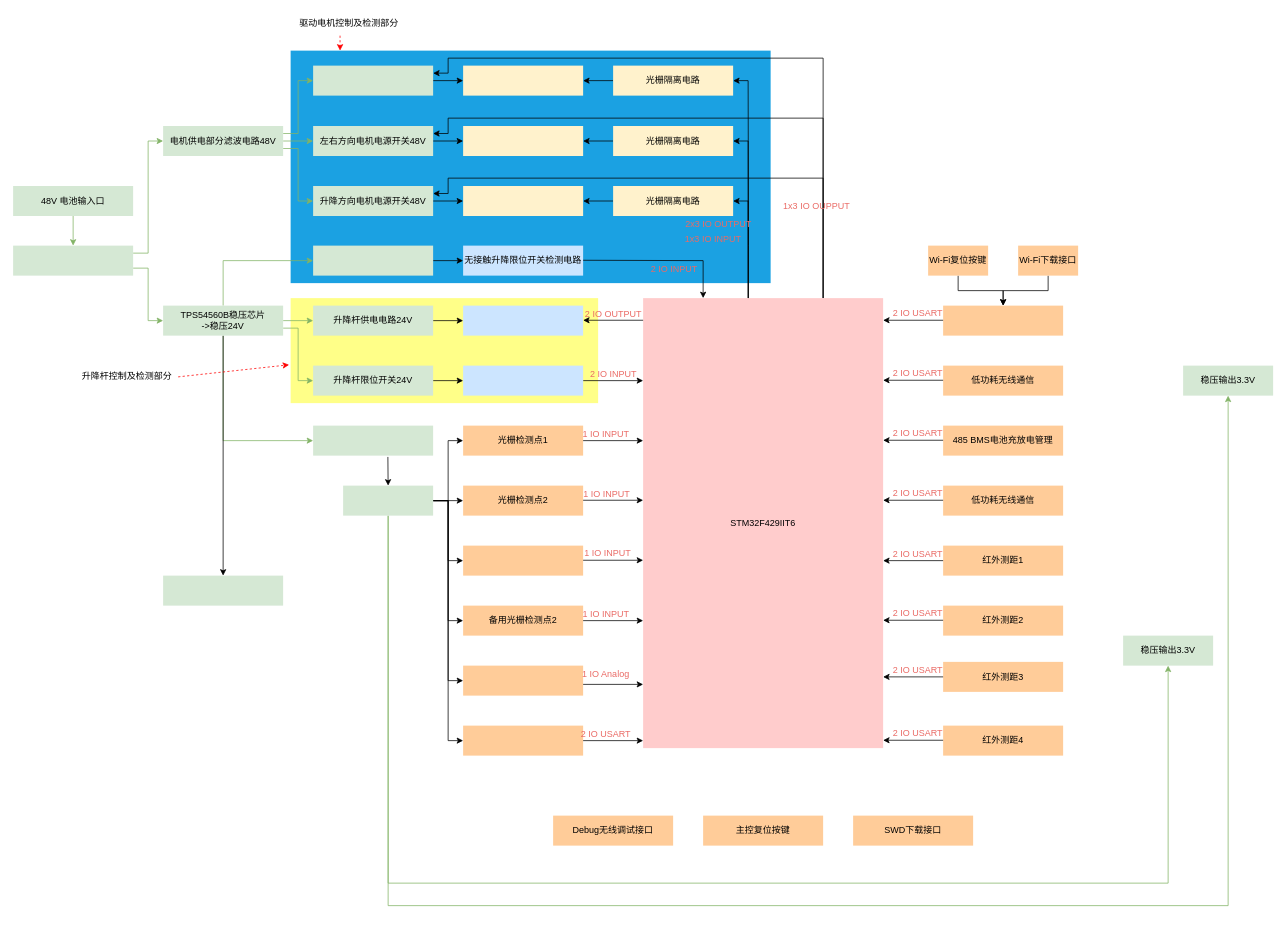
The diagram is 1286 pixels wide and 925 high, and some of its shapes have lost their labels. The shapes that lost their labels are listed below. From the top down, each one's centre as x and y in pixels, then its label:
point 373,80: 前后方向电机电源开关48V
point 523,80: 电机驱动器1
point 523,141: 电机驱动器2
point 523,201: 电机驱动器3
point 73,260: 机械开关
point 373,260: 方向切换限位开关供电24V
point 523,320: 升降杆控制电路
point 1003,320: USART1 Wi-Fi通信模块
point 523,380: 无接触升降杆检测电路
point 373,440: TPS5430稳压芯片 ->稳压5V
point 388,500: 稳压输出5V
point 523,560: 备用光栅检测点1
point 223,590: TPS5430稳压芯片 ->稳压3.3V
point 523,680: 红外传感器检测包裹
point 523,740: RFID传感器采集
